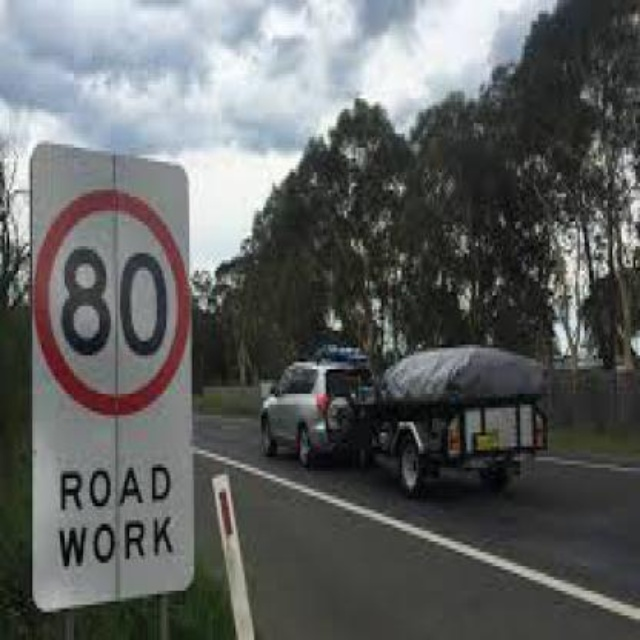Tốc độ tối đa cho phép 80km/h: (41, 191, 187, 409)
